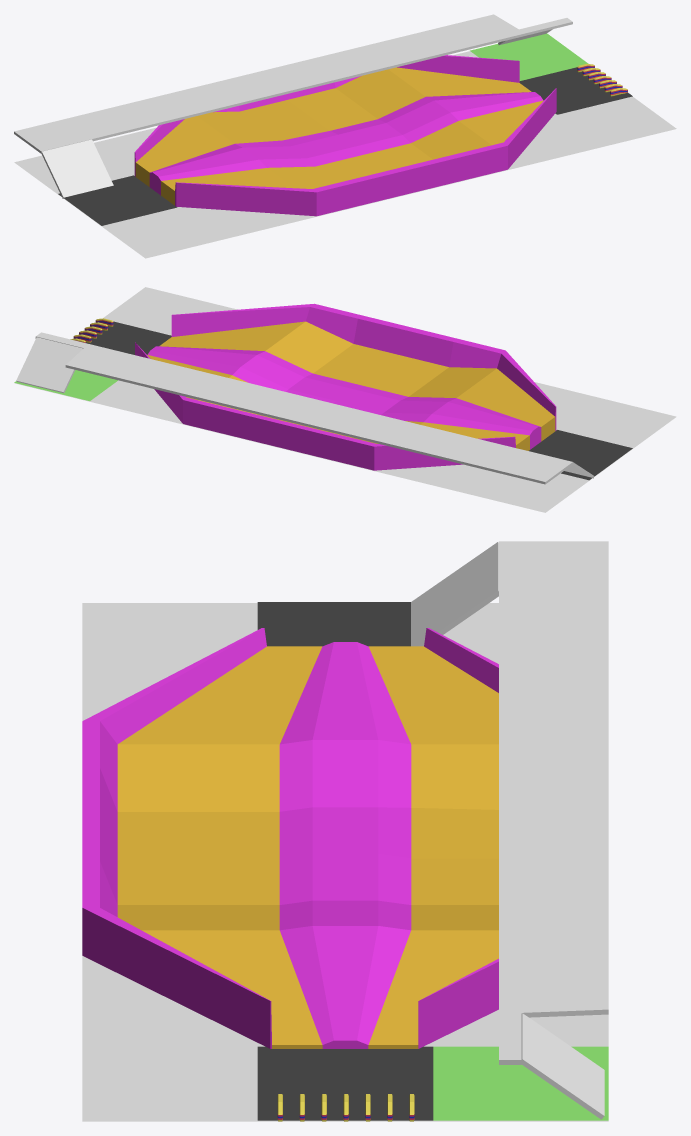
File: floor.glb
The picture shows the model from 3 angles, top to bottom: view 1: azimuth 30°, elevation 25°; view 2: azimuth 150°, elevation 25°; view 3: azimuth 270°, elevation 25°; orthographic projection. The views are drawn at different scales.
Parts seen in each view (by area): view 1: Plane, spectator_platform, course, Plane.002, Plane.001, ramp, Plane.003, gate02; view 2: Plane, spectator_platform, course, Plane.002, ramp.001, Plane.003, Plane.001, gate02; view 3: Plane, spectator_platform, course, Plane.003, Plane.001, Plane.002, ramp, ramp.001, gate02.
Boxes of the visible parts, x1,y1,x2,y2 form: Plane: (134, 55, 556, 216); spectator_platform: (14, 14, 572, 153); course: (14, 51, 676, 258); Plane.002: (58, 175, 177, 225); Plane.001: (470, 33, 588, 80); ramp: (41, 139, 113, 198); Plane.003: (519, 67, 632, 114); gate02: (577, 64, 627, 96); Plane: (135, 303, 556, 470); spectator_platform: (35, 332, 572, 484); course: (14, 287, 676, 512); Plane.002: (529, 430, 632, 480); ramp.001: (16, 337, 83, 393); Plane.003: (86, 321, 171, 354); Plane.001: (14, 370, 117, 401); gate02: (70, 318, 113, 342); Plane: (82, 628, 498, 1048); spectator_platform: (499, 541, 608, 1064); course: (82, 603, 608, 1121); Plane.003: (257, 1046, 433, 1120); Plane.001: (433, 1046, 608, 1120); Plane.002: (257, 602, 410, 646); ramp: (411, 542, 498, 646); ramp.001: (521, 1013, 604, 1119); gate02: (277, 1094, 414, 1121).
Size of what is drawn, in the model's own units: 112 by 6.49 by 48.
